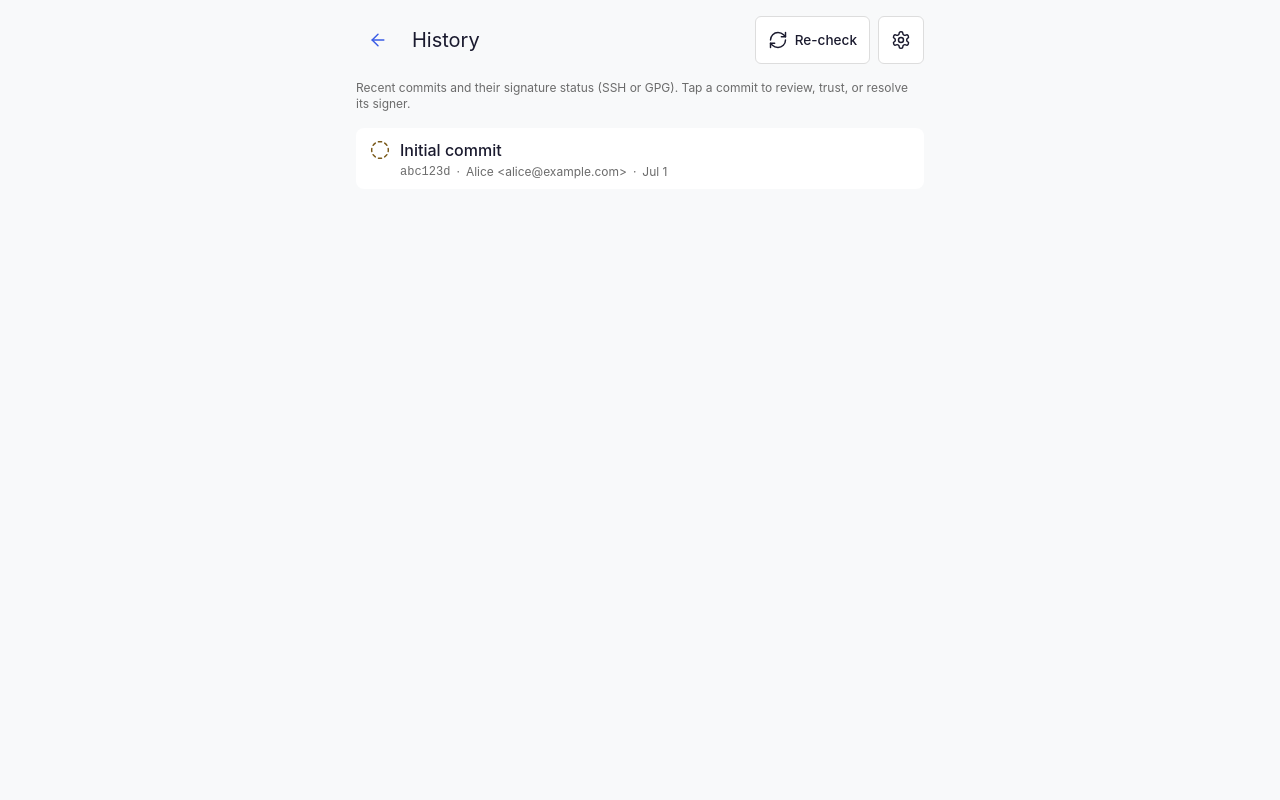
HistoryPage › clicking a commit row opens the detail modal
The image size is (1280, 800).
Click the button "Initial commit abc123d · Alice <alice@example.com> · Jul 1".
click(451, 150)  # box [356,128,924,189]
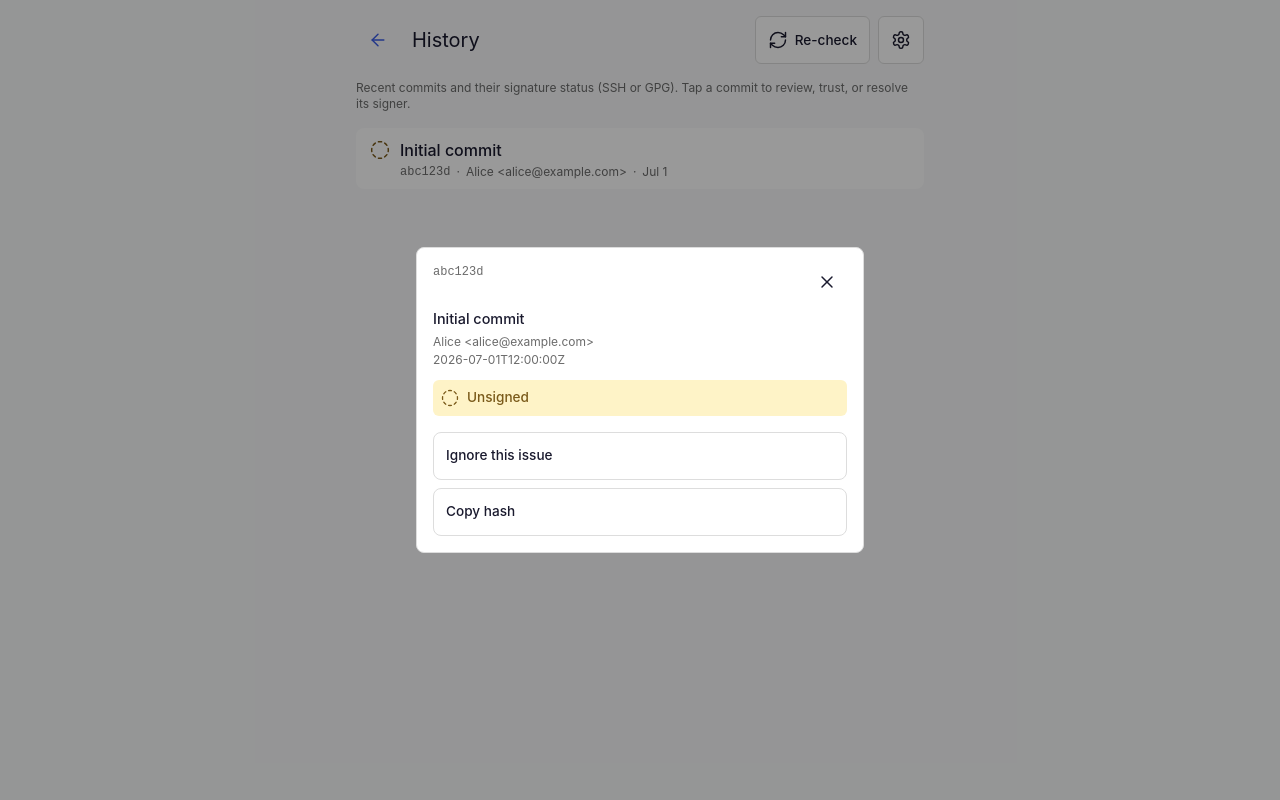
Expected: the text "abc123d" is shown, [400,164,450,180]
Now the dialog named "Commit detail" is shown
